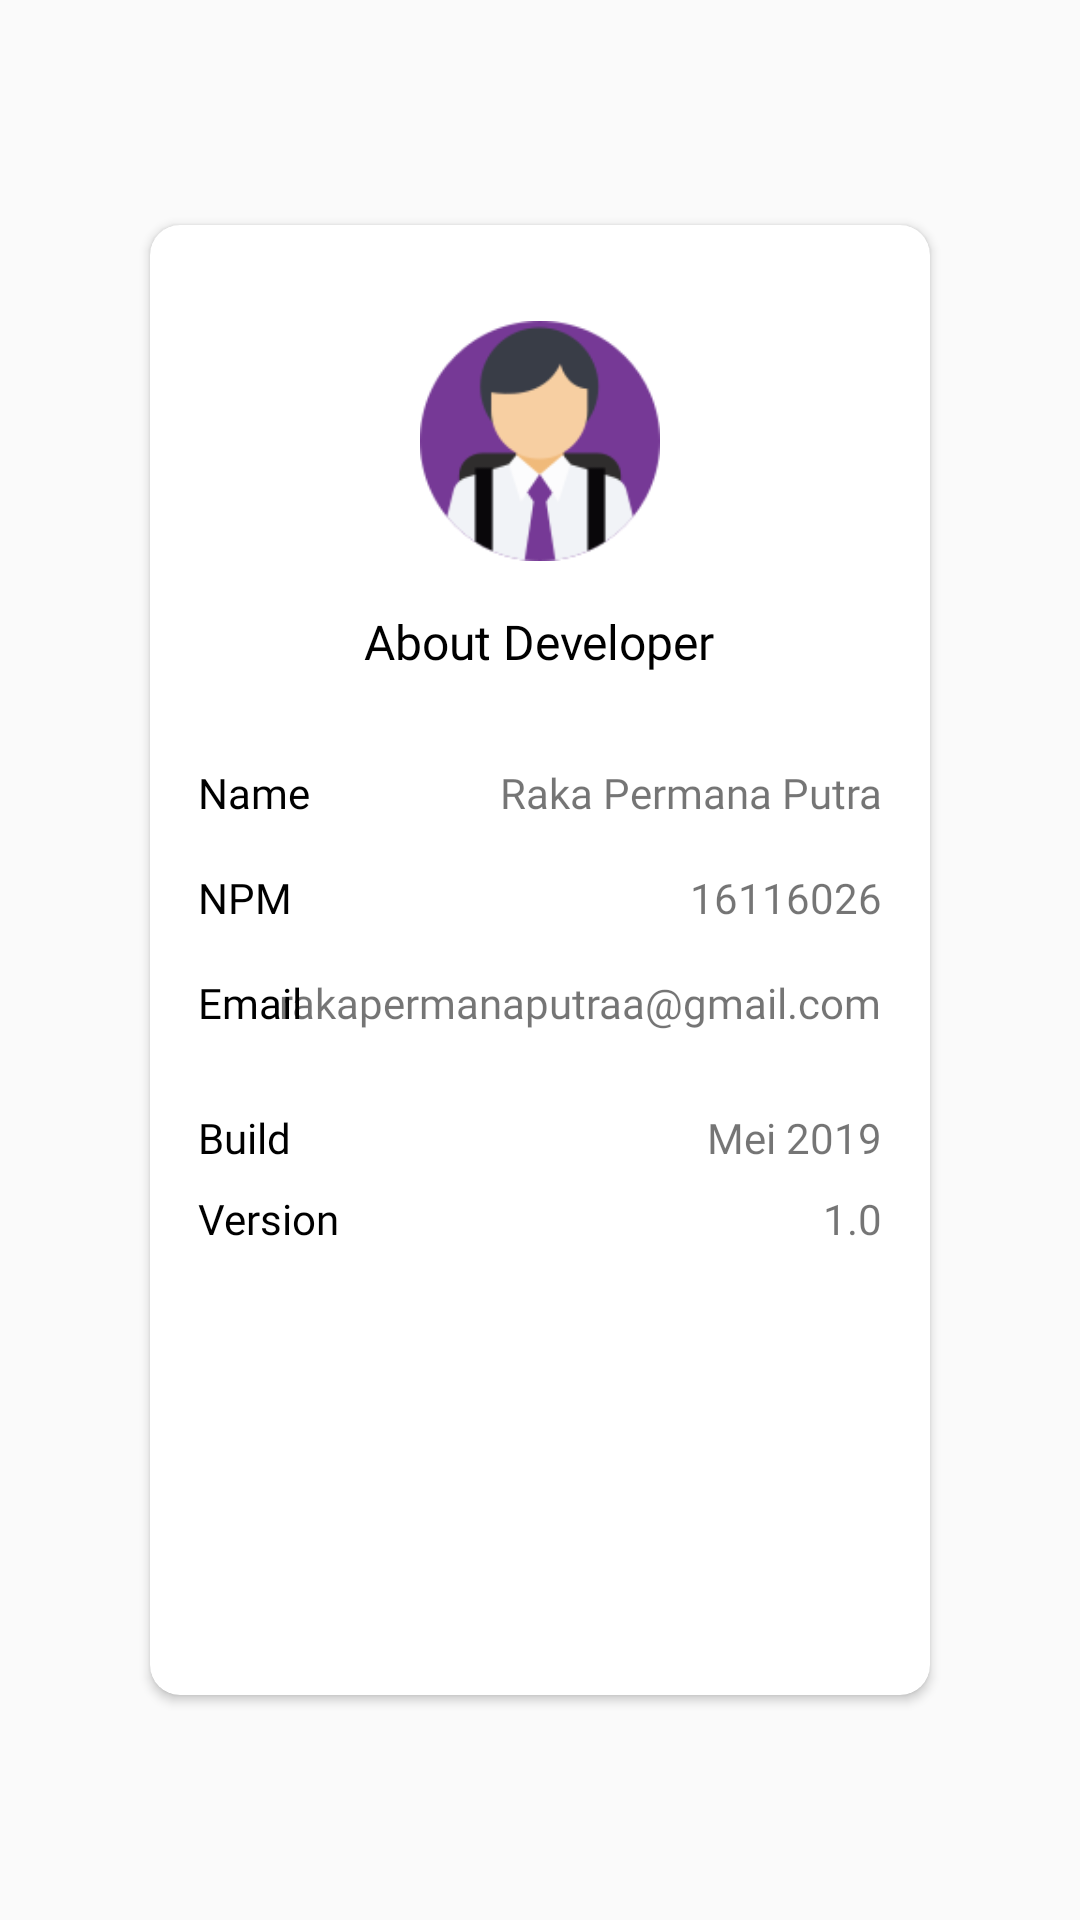

Where icons sit on this 1080 x 1920 app screen, as (x1, y1, x2, y2):
profile student: (420, 321, 660, 561)
